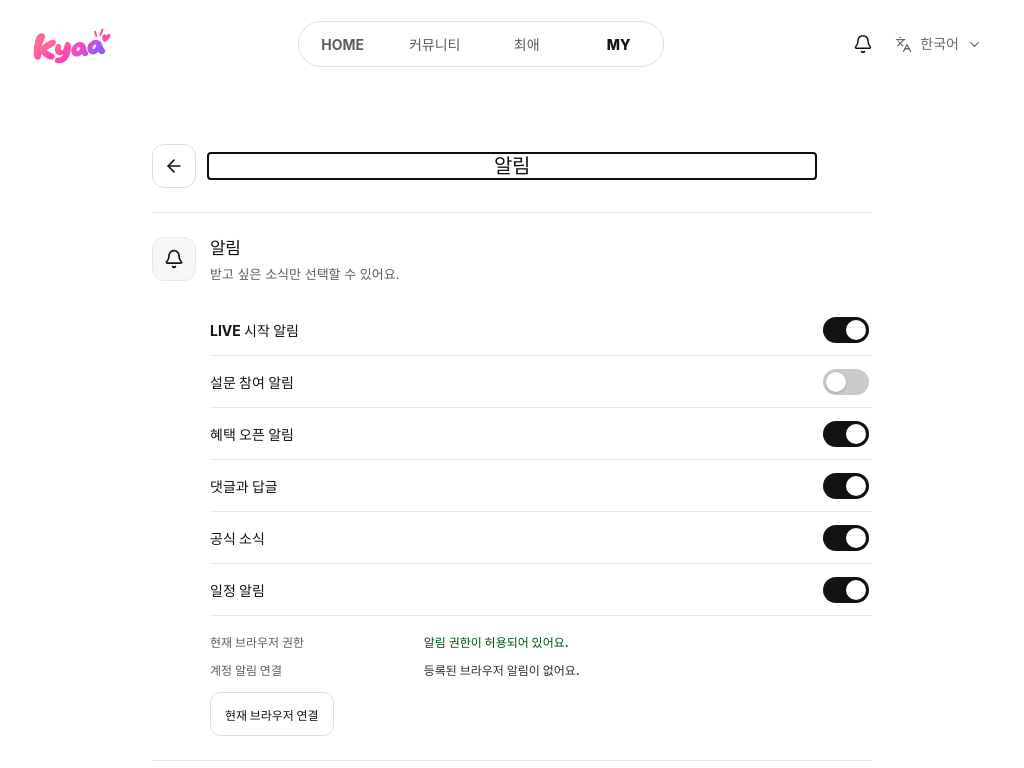
Test: FAN-020 settings › distinguishes granted permission, pending connection, error, and subscribed
Expected: the text "알림 권한이 허용되어 있어요." is shown, [424,635,569,650]
Step 1. Click the button "현재 브라우저 연결" → (272, 714), box [210,692,334,736]
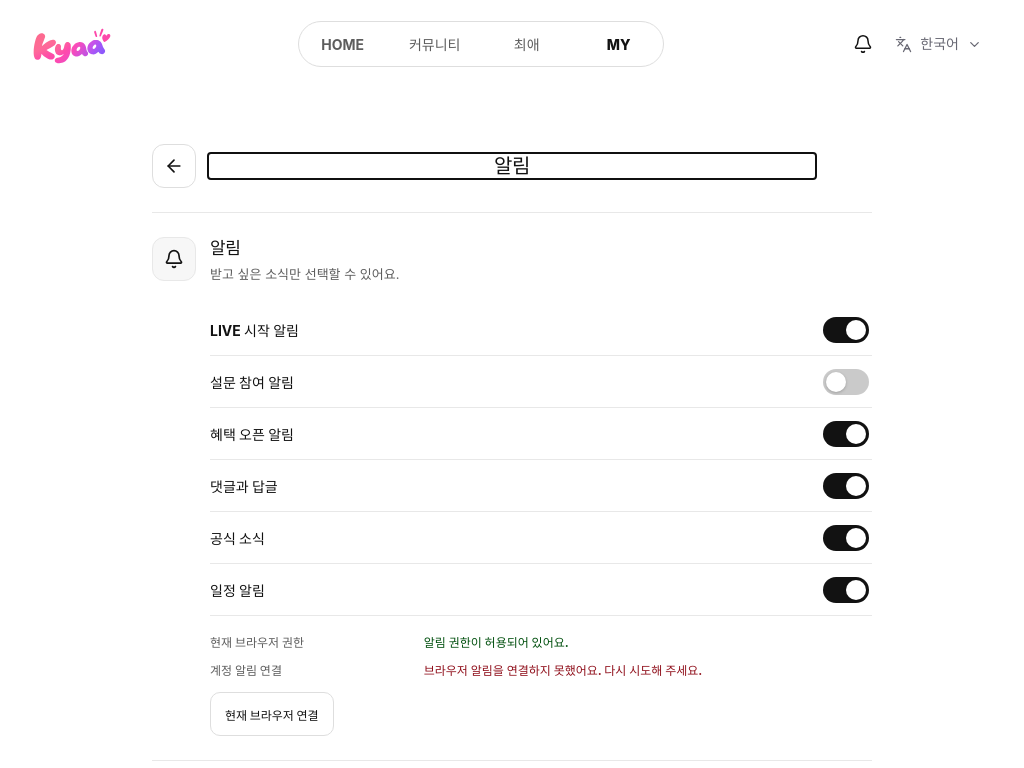
Now the text "브라우저 알림을 연결하지 못했어요. 다시 시도해 주세요." is shown, box [424,663,702,678]
Step 2. Click the button "현재 브라우저 연결" → (272, 714), box [210,692,334,736]
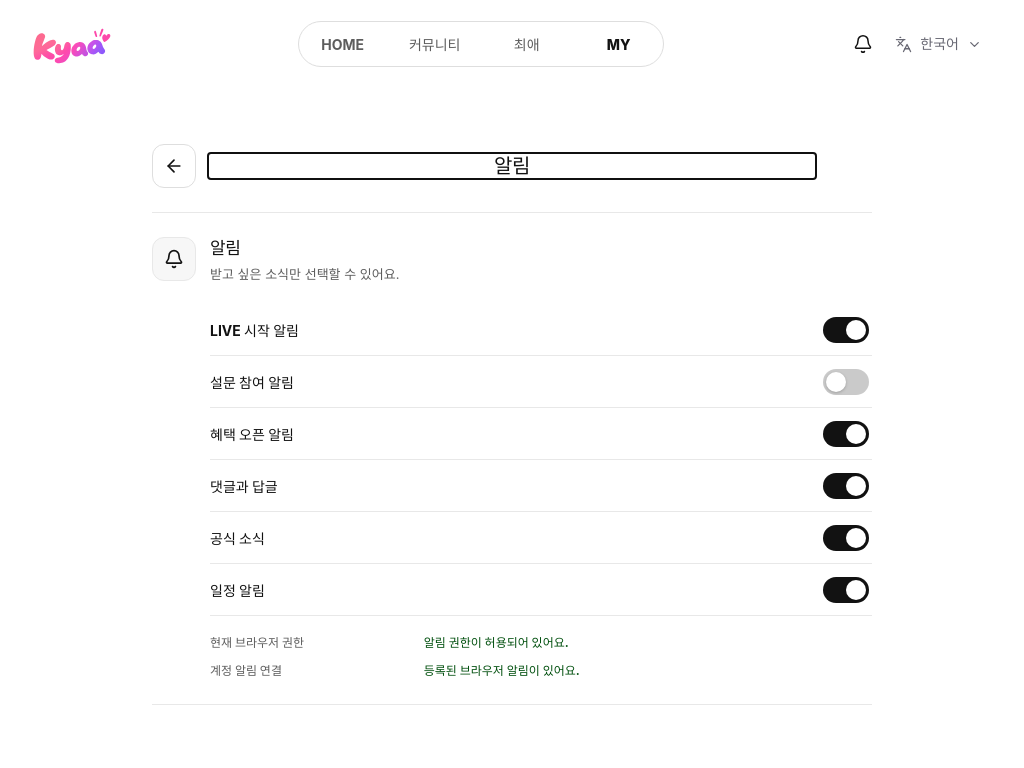
Now the text "등록된 브라우저 알림이 있어요." is shown, box [424,663,580,678]
